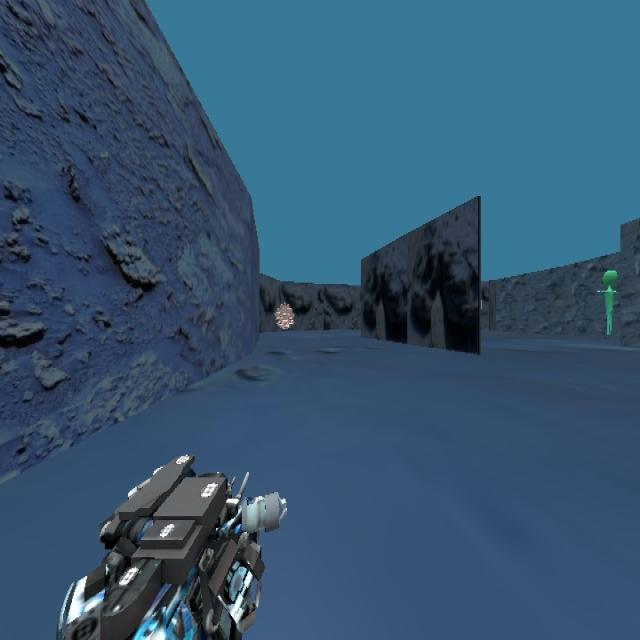Alien: (596, 268, 618, 336)
Mushroom: (274, 301, 294, 331)
